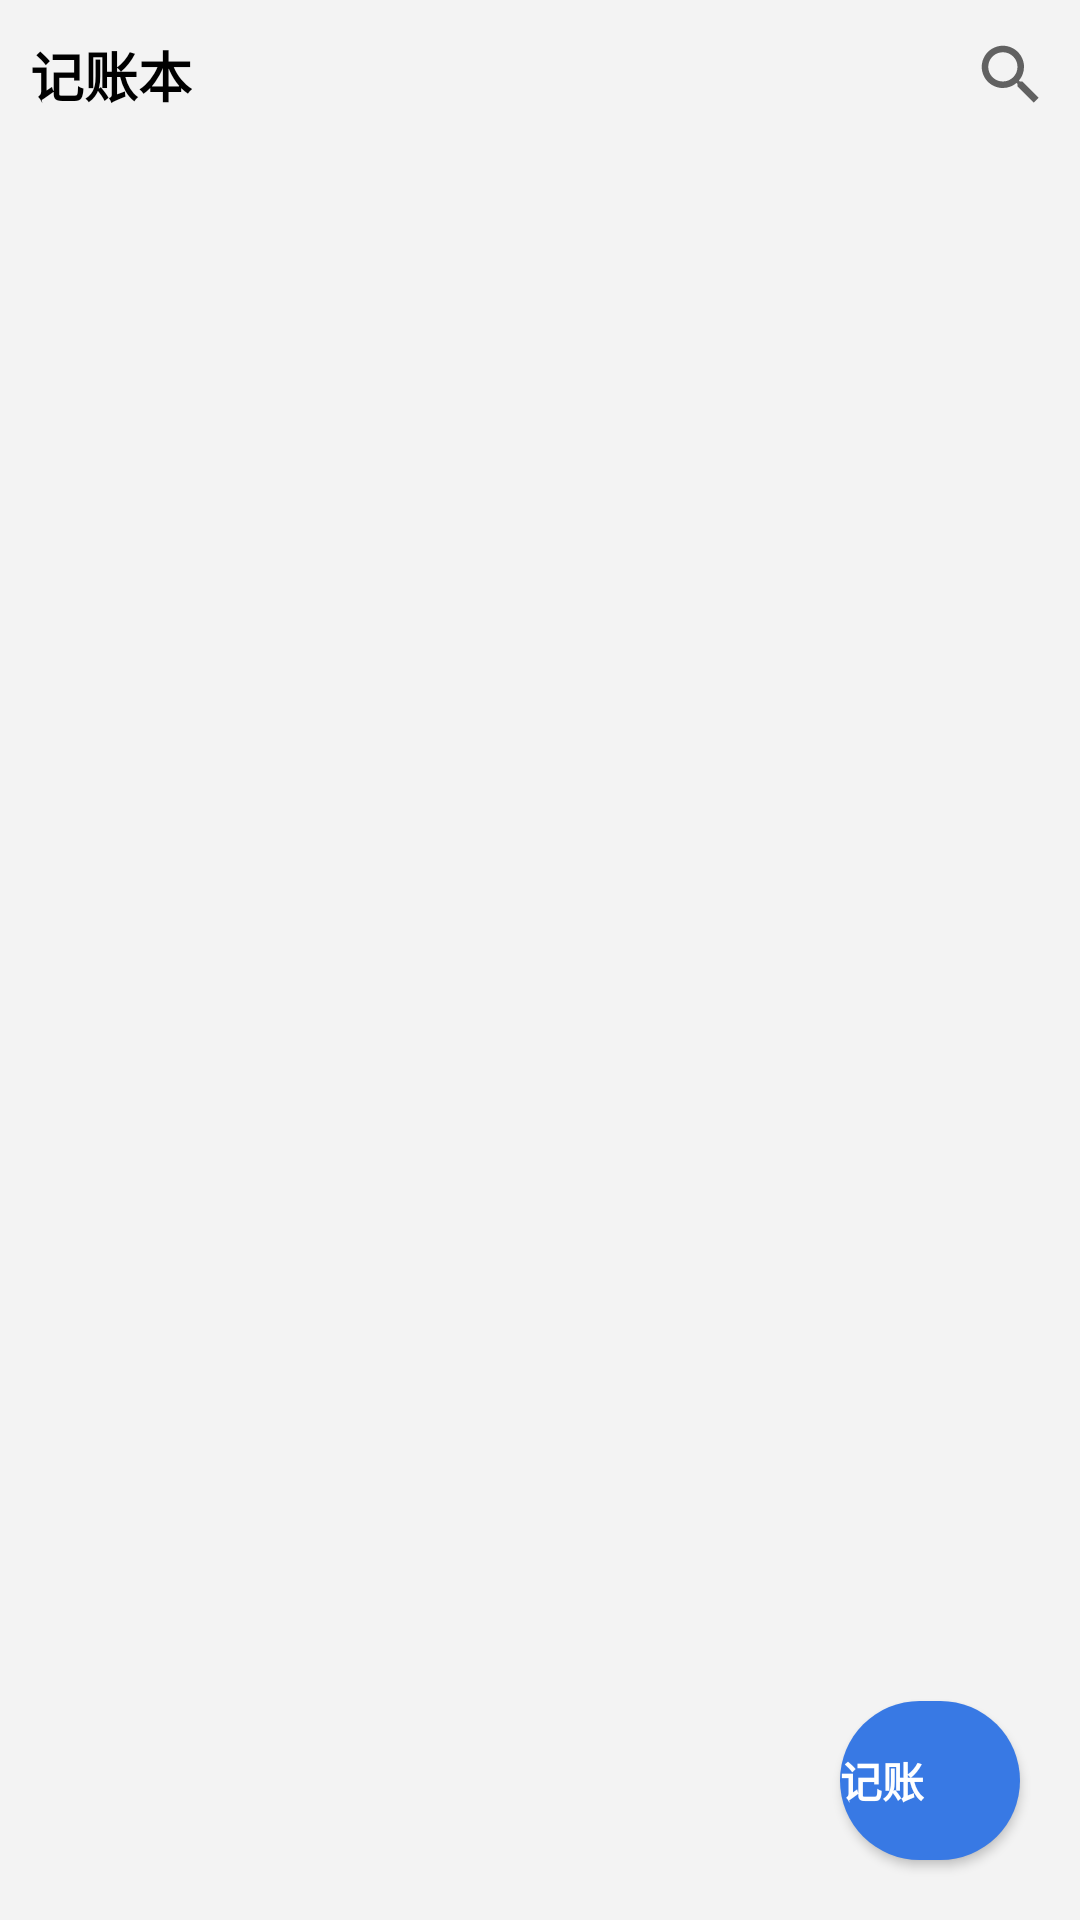

Named icons in this screenshot (1080w x 1920h) and their bounding boxes, (x1, y1, x2, y2):
search: (981, 45, 1039, 103)
